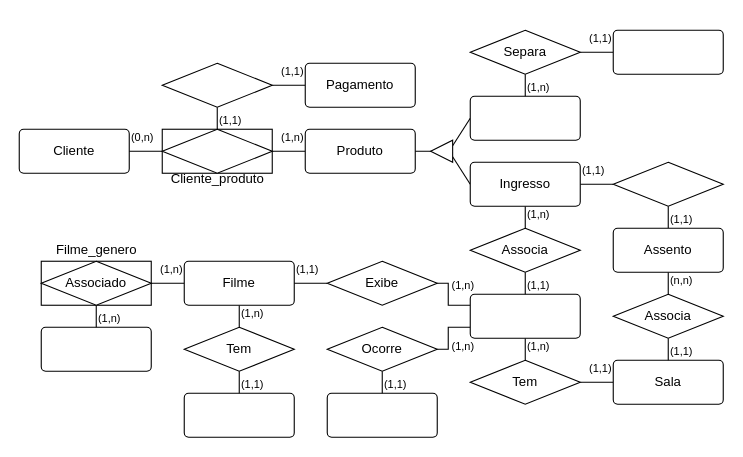
Some shapes in this 743 by 457 pixel diagram are drawn without their labels. The shapes that lost their labels are listed below. From the top down, each one's centre as x and y in pixels, then its label:
the point at 667,51: Funcionario
the point at 216,84: Valida
the point at 524,117: Comida
the point at 216,150: Compra
the point at 667,183: Vincula
the point at 524,315: Sessao
the point at 95,348: Genero
the point at 238,414: Classificacao
the point at 381,414: Exibicao
